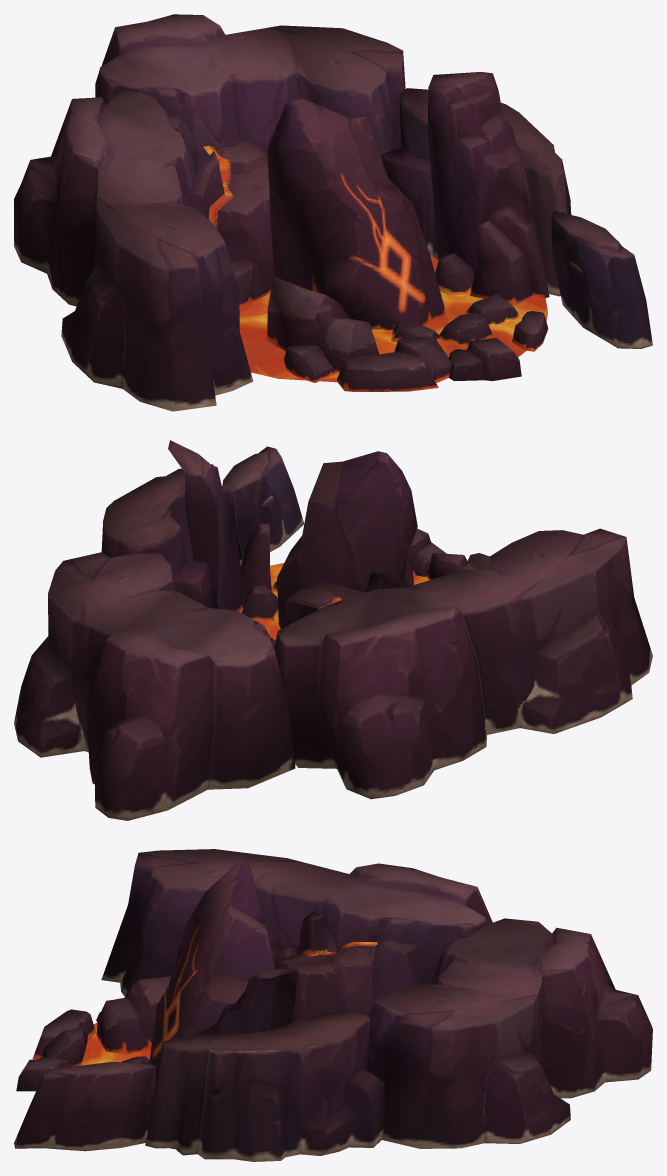
The model's file is yanjiangshibe.FBX.
3 views of the same model, one above another, from view 1: azimuth 30°, elevation 25°; view 2: azimuth 150°, elevation 25°; view 3: azimuth 270°, elevation 25° (orthographic). The views are drawn at different scales.
Parts seen in each view (by area): view 1: yanjiangshibei; view 2: yanjiangshibei; view 3: yanjiangshibei.
Boxes of the visible parts, x1,y1,x2,y2 form: yanjiangshibei: (14, 14, 652, 411); yanjiangshibei: (14, 440, 652, 820); yanjiangshibei: (14, 849, 652, 1161).
Bounding box in the file's own units: 26.3 × 10.91 × 33.51.
